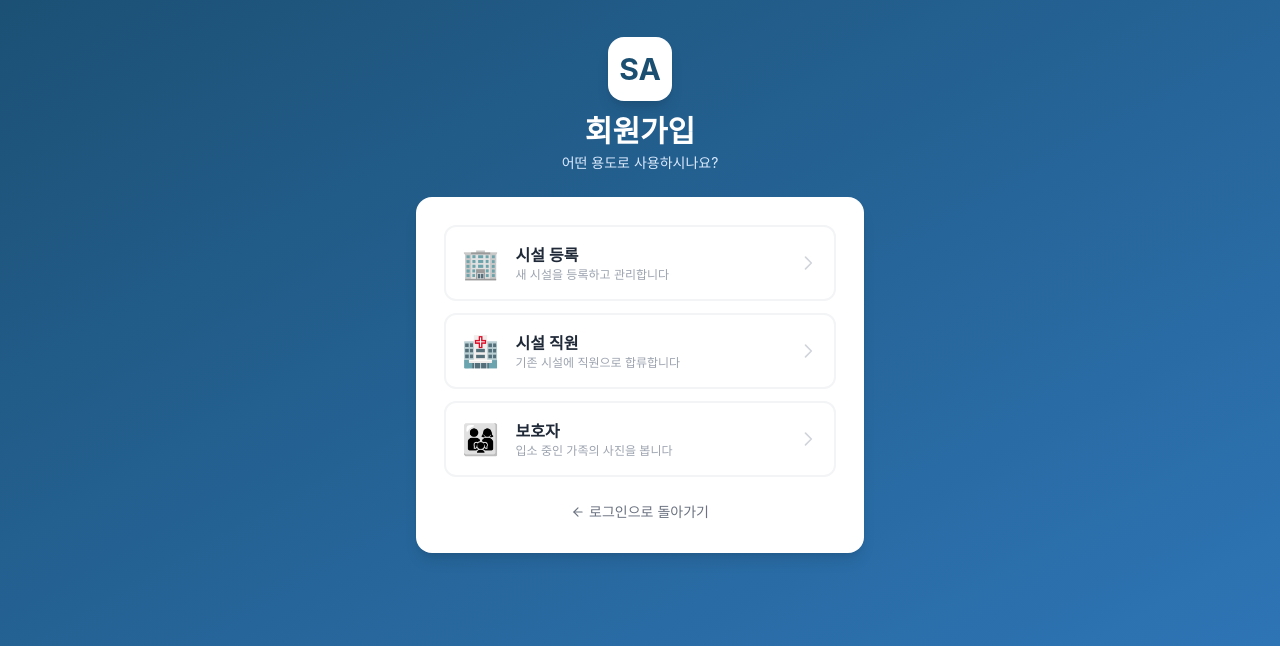
Test: RegisterPage › Step 2 - 시설 관리자(admin) 가입 › 시설 주소 없이 제출하면 에러가 표시된다
Click the text "시설 등록" at (547, 255), box [515,245,578,265]
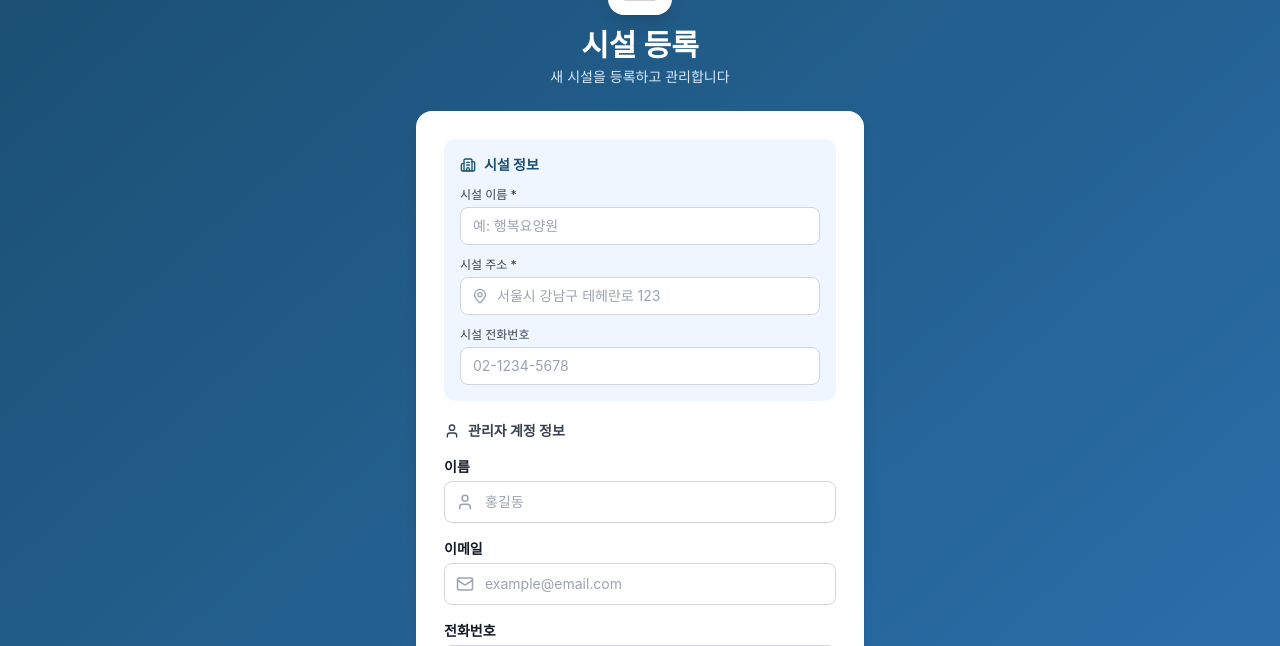
Type "테스트요양원" into the field with placeholder "예: 행복요양원" at (640, 226), box [460,207,820,245]
Type "관리자" into the field with placeholder "홍길동" at (640, 502), box [444,481,836,523]
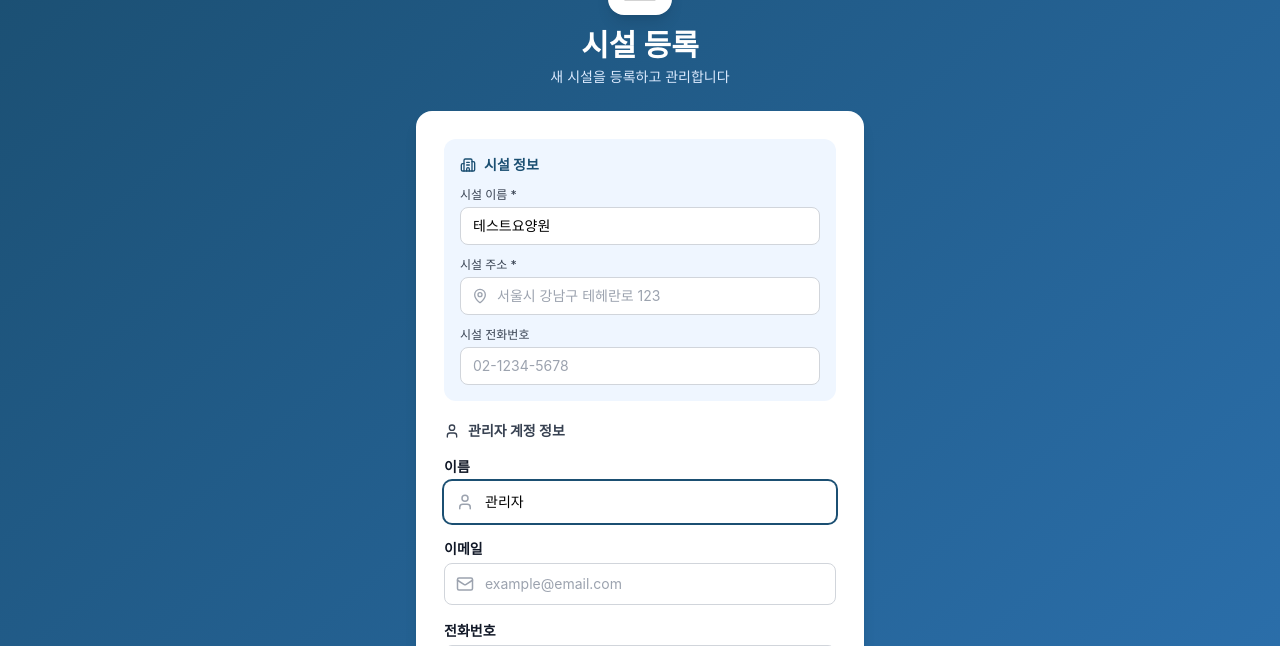
Type "admin@test.com" into the field with placeholder "example@email.com" at (640, 584), box [444,563,836,605]
(page scrolled)
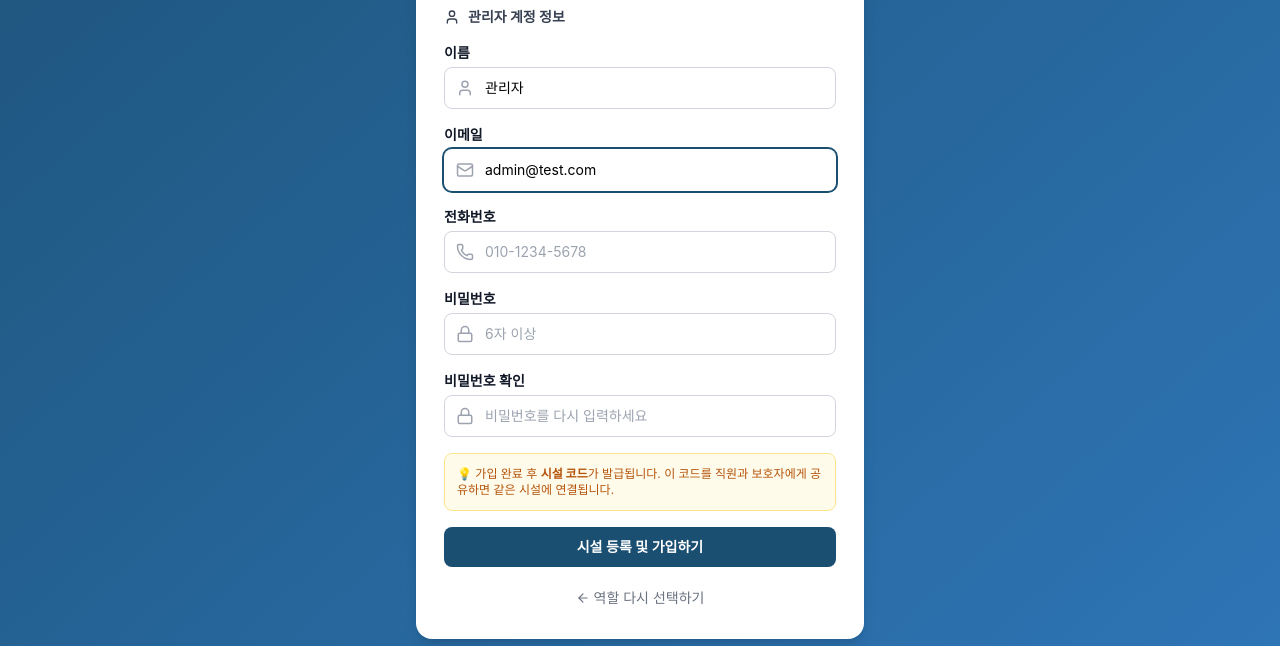
Type "password123" into the password field with placeholder "6자 이상" at (640, 334), box [444,313,836,355]
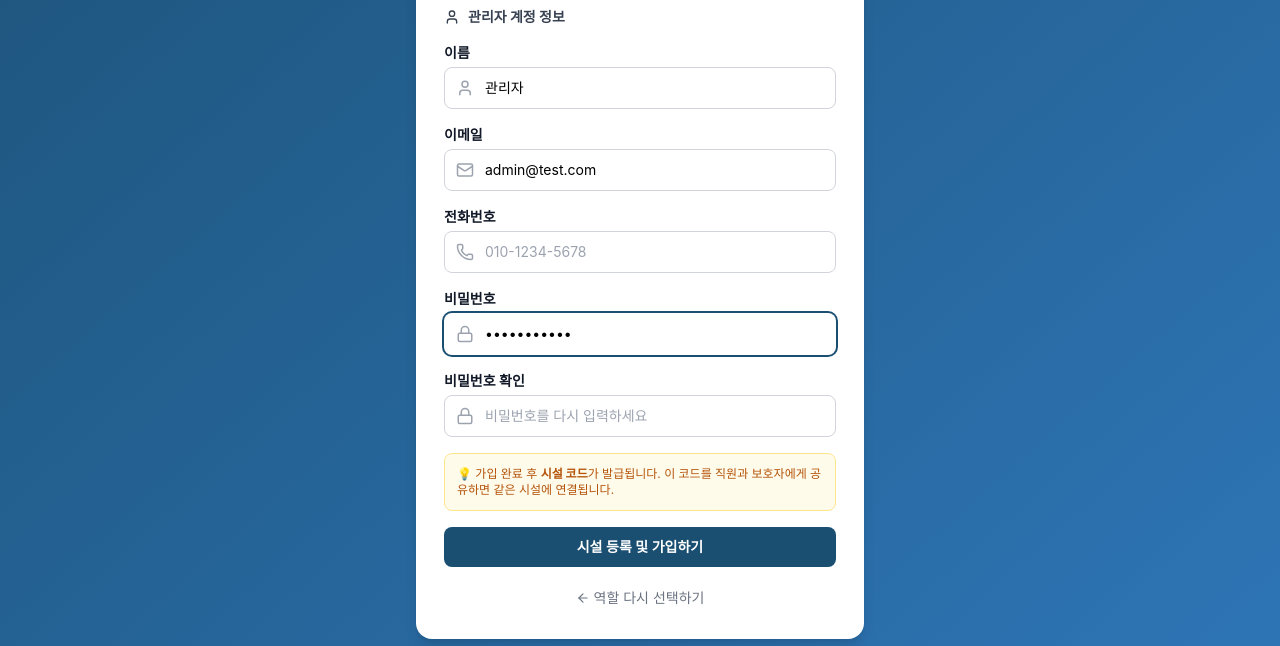
Type "password123" into the password field with placeholder "비밀번호를 다시 입력하세요" at (640, 416), box [444,395,836,437]
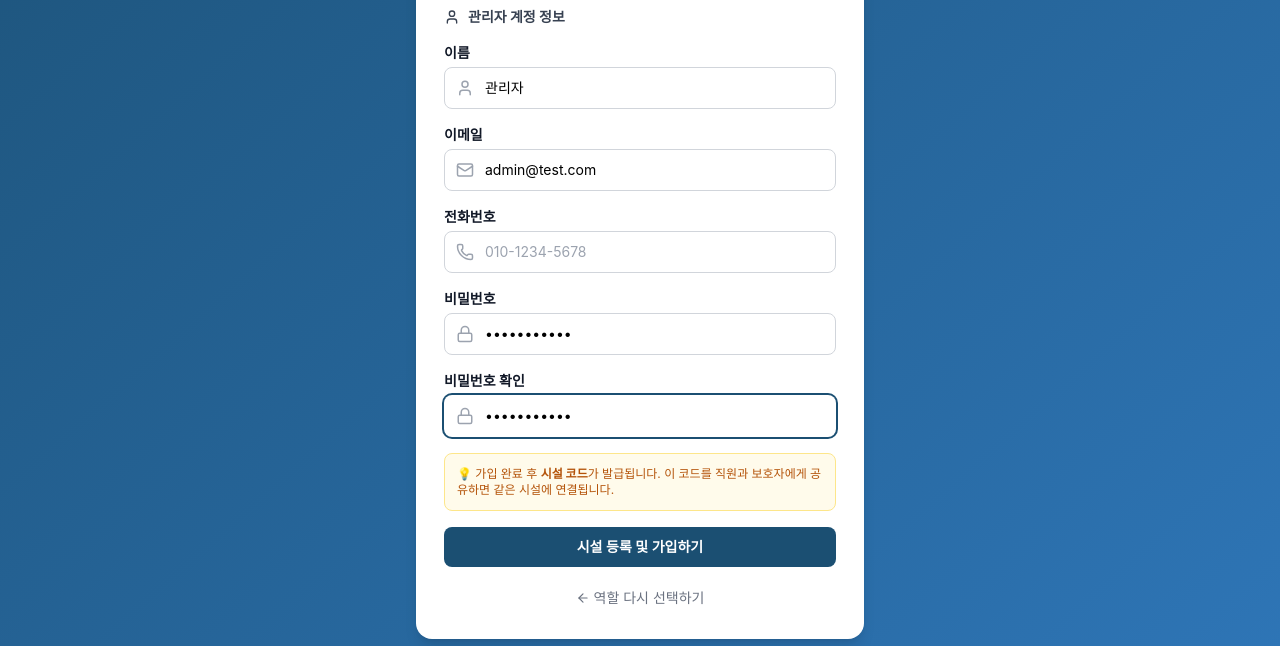
Click the button "시설 등록 및 가입하기" at (640, 547), box [444,527,836,567]
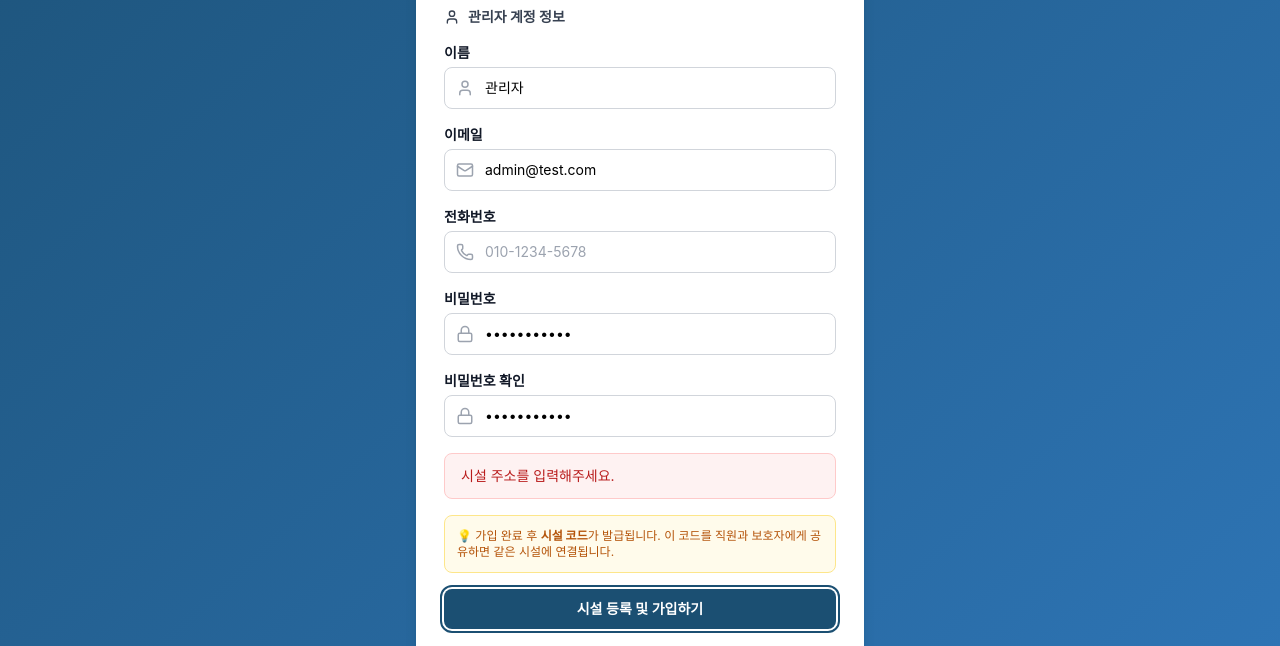
Result: the text "시설 주소를 입력해주세요." is shown at [444,453,836,499]
